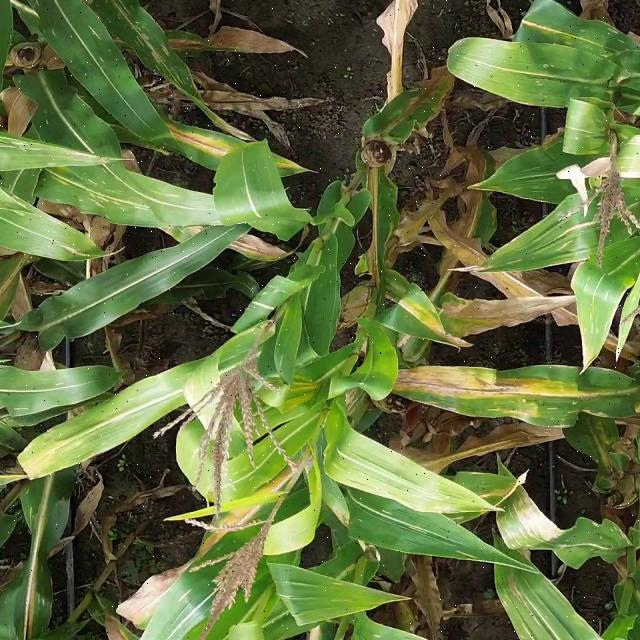gray-leaf-spot: (471, 465, 636, 628), (4, 119, 170, 252), (59, 0, 226, 123), (472, 148, 587, 288), (160, 320, 318, 413), (493, 14, 629, 111), (557, 234, 640, 359)
northern-leaf-blight: (375, 349, 623, 442), (165, 104, 317, 202), (366, 54, 467, 165), (376, 270, 470, 353)
southern-leaf-blight: (0, 295, 113, 436)
